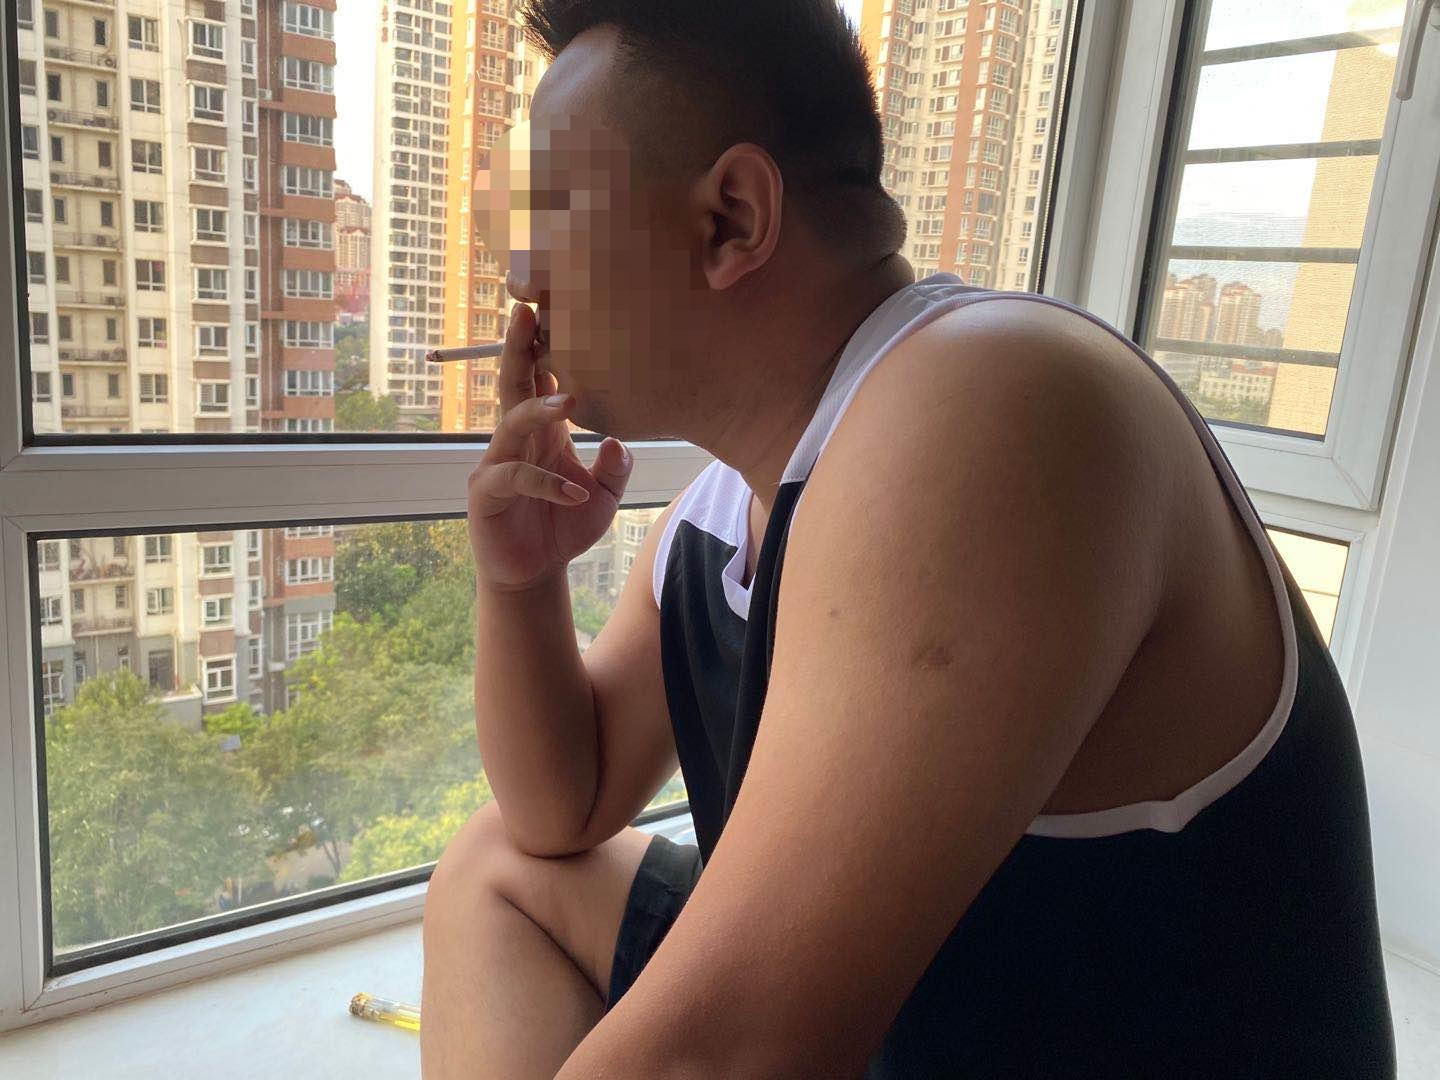smoke: (423, 336, 506, 368)
